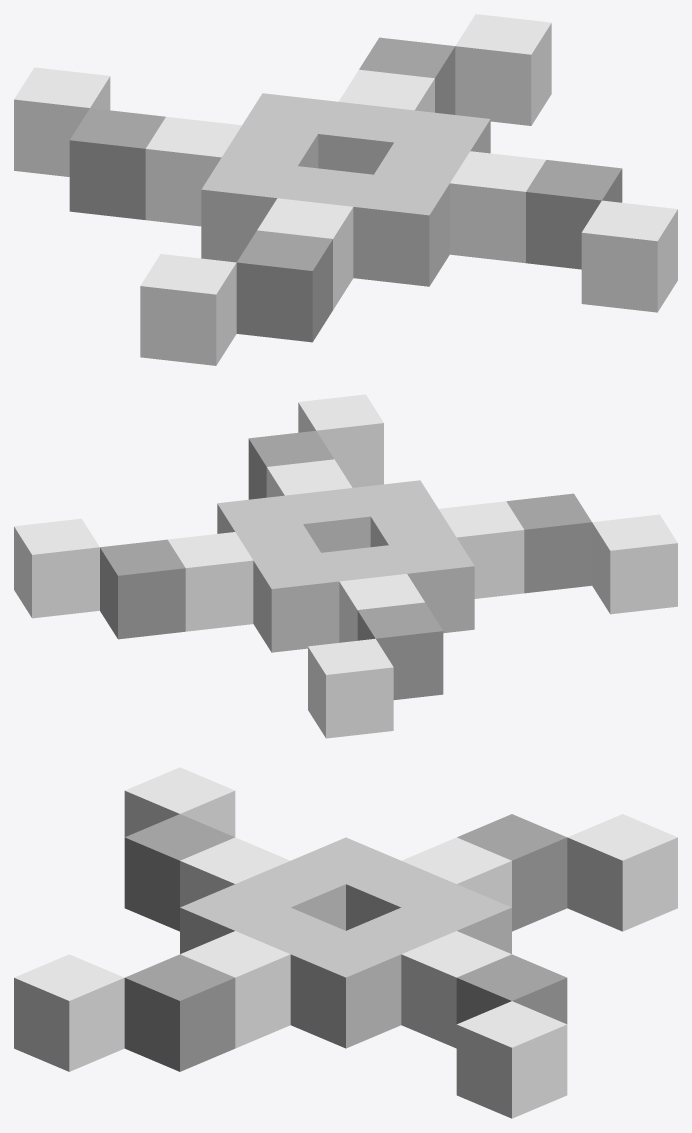
Rendered from item_SHURIKEN.glb.
The picture shows the model from 3 angles, top to bottom: view 1: azimuth 30°, elevation 25°; view 2: azimuth 150°, elevation 25°; view 3: azimuth 270°, elevation 25°; orthographic projection. The views are drawn at different scales.
Visible parts, largest first — view 1: item_SHURIKEN; view 2: item_SHURIKEN; view 3: item_SHURIKEN.
Part boxes in pixels (bbox=[...]): item_SHURIKEN: bbox=[14, 14, 677, 365]; item_SHURIKEN: bbox=[14, 394, 677, 738]; item_SHURIKEN: bbox=[14, 767, 677, 1118].
Size of the model in its own units: 0.3857 by 0.0455 by 0.3857.
Materials: 1 (1 with a texture image).
